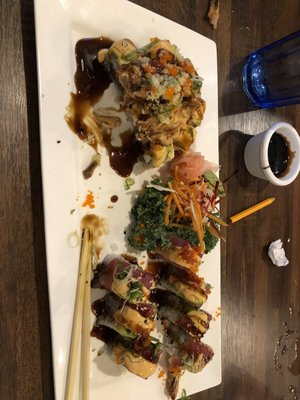curry: (127, 187, 201, 251)
